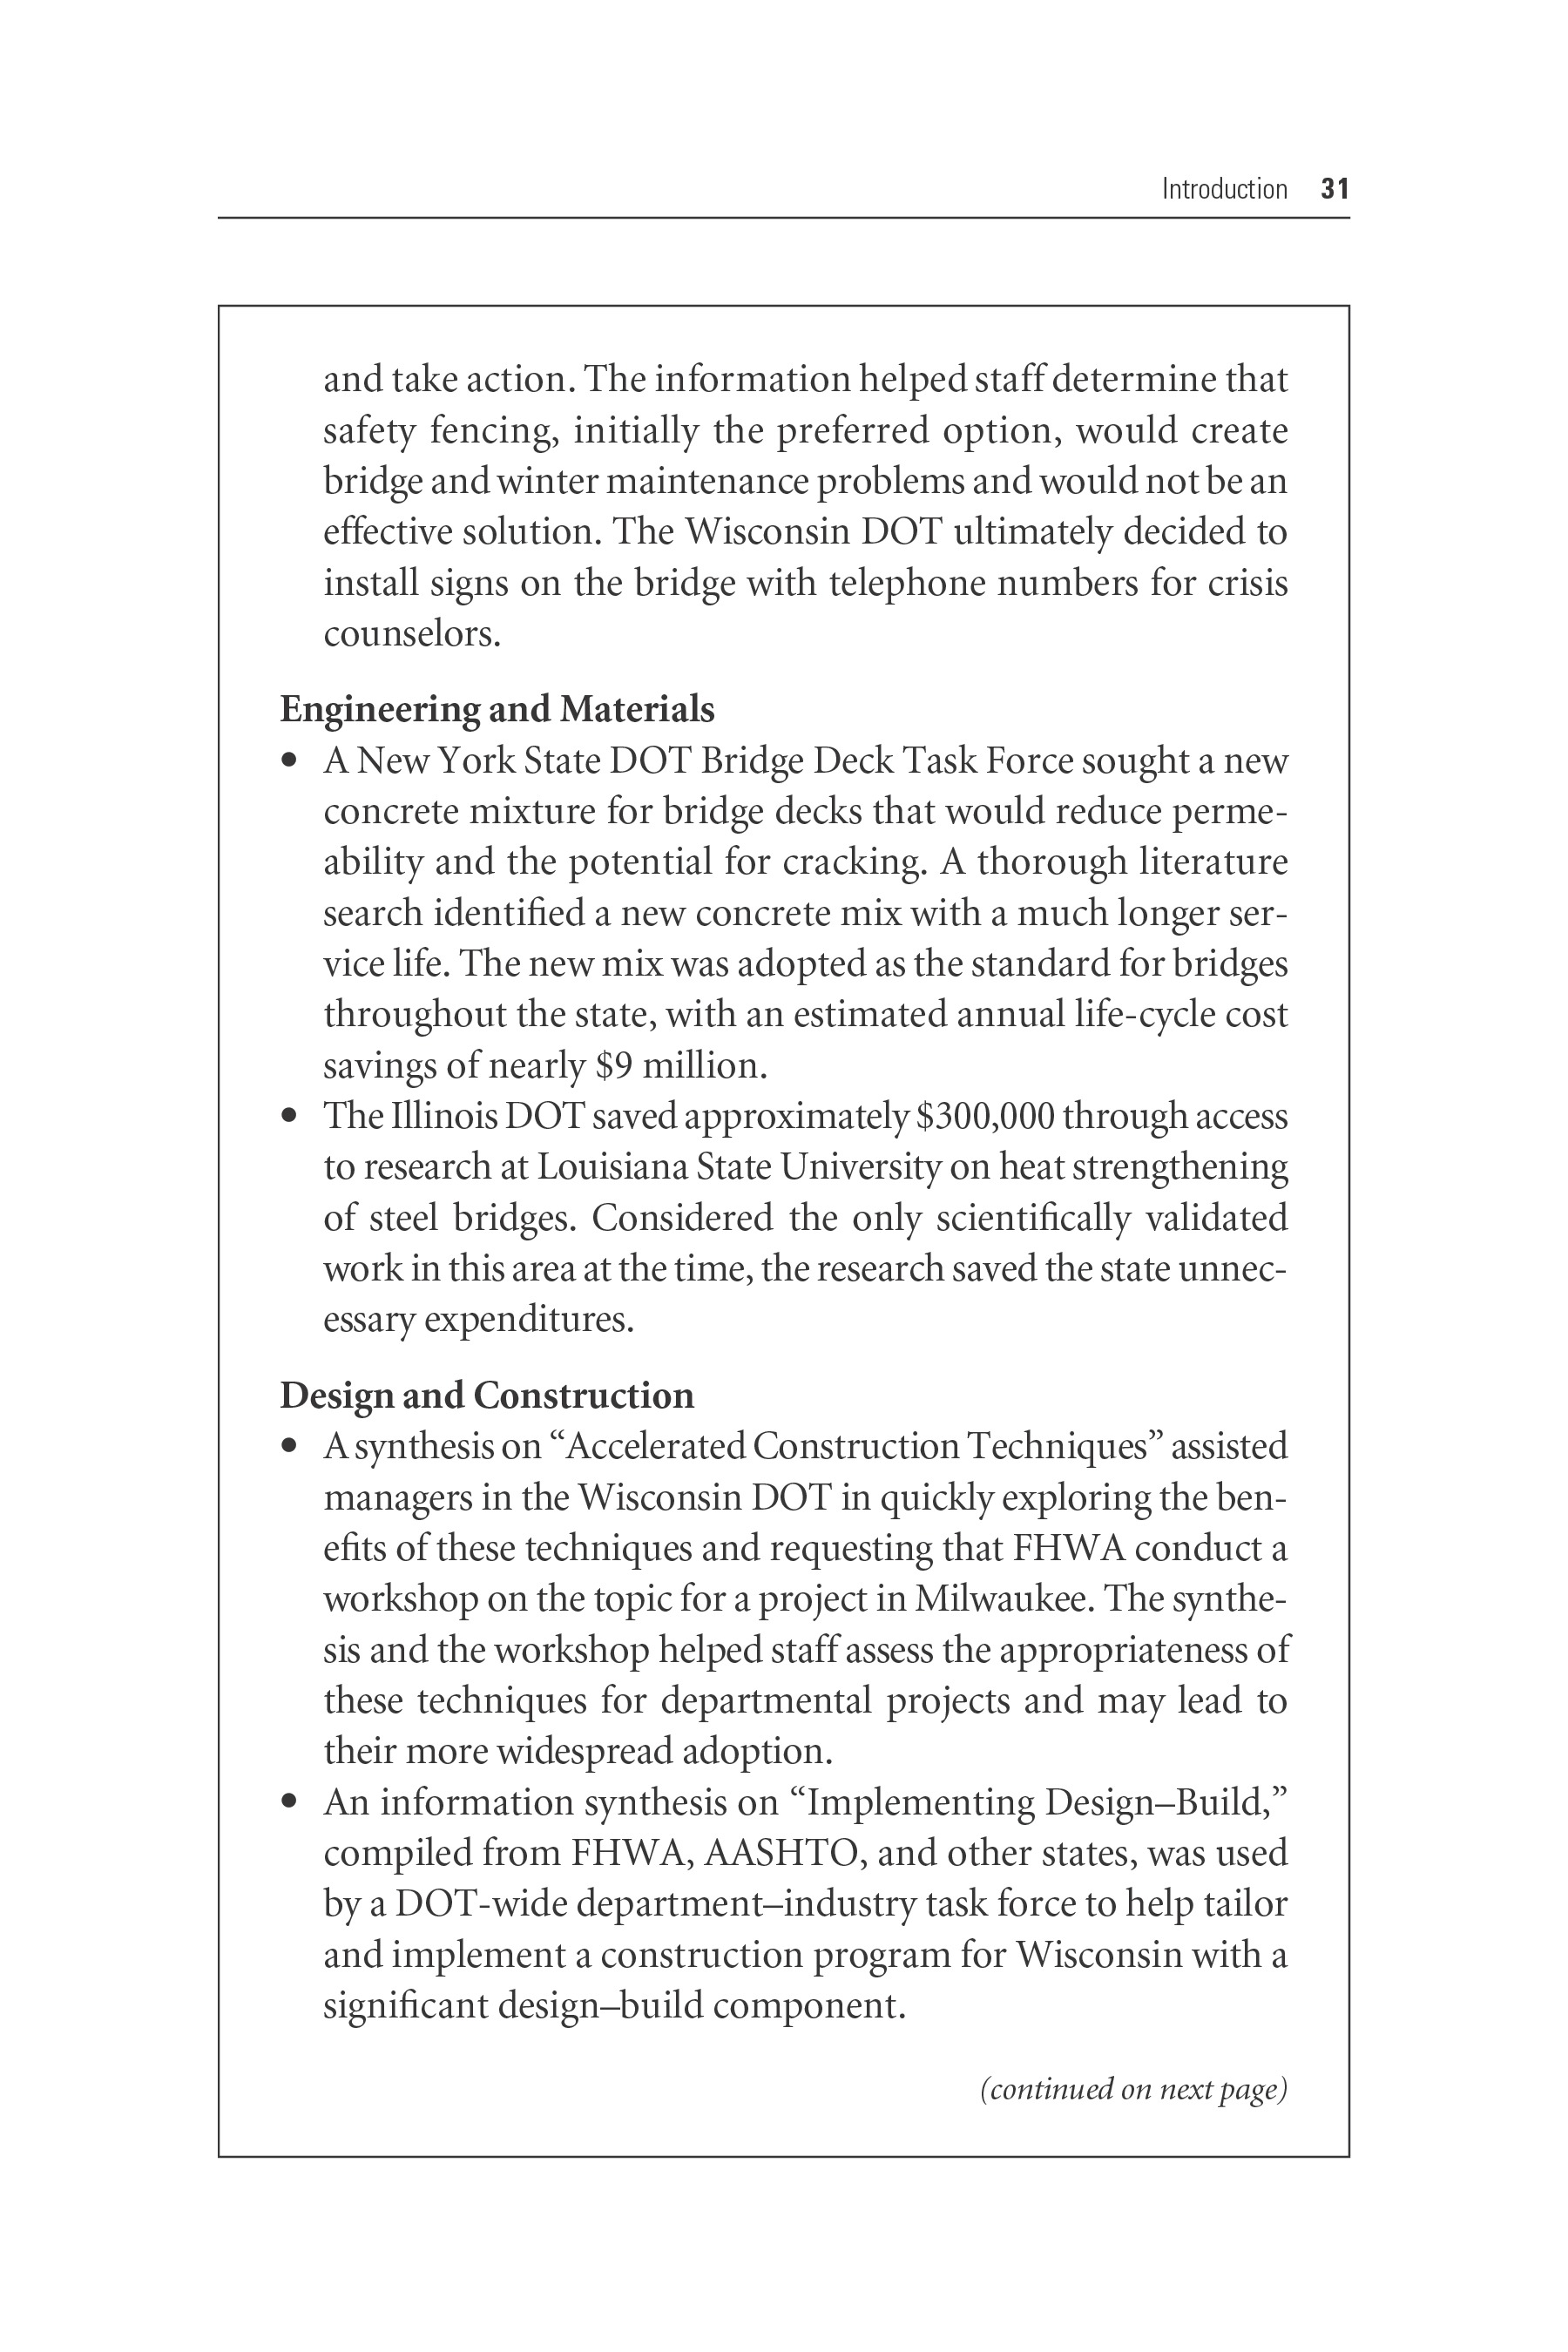list: (262, 1430, 1284, 2044), (252, 747, 1311, 1316)
section: (259, 670, 717, 744), (262, 1365, 728, 1426)
text: (313, 359, 1291, 647)
